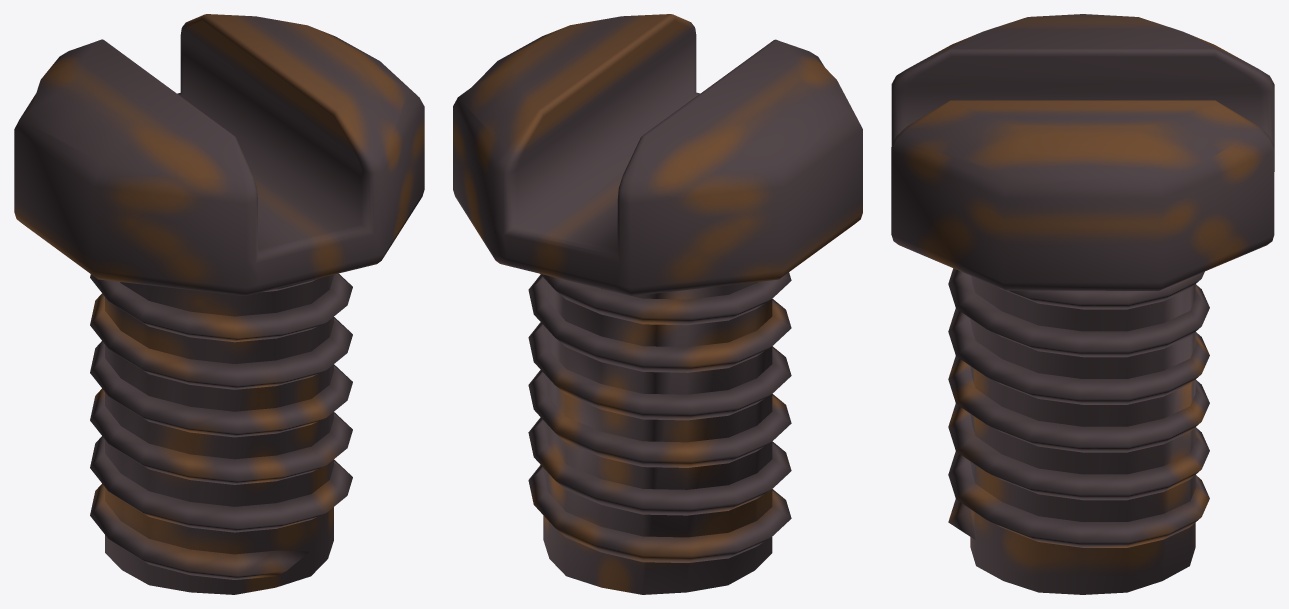
File: tornillo.fbx
3 renders of one model, left to right at view 1: azimuth 30°, elevation 25°; view 2: azimuth 150°, elevation 25°; view 3: azimuth 270°, elevation 25°, orthographic.
Parts seen in each view (by area): view 1: Rusty_Screw_Cylinder.004; view 2: Rusty_Screw_Cylinder.004; view 3: Rusty_Screw_Cylinder.004.
Boxes of the visible parts, x1,y1,x2,y2 form: Rusty_Screw_Cylinder.004: [14, 14, 424, 594]; Rusty_Screw_Cylinder.004: [453, 14, 862, 594]; Rusty_Screw_Cylinder.004: [891, 14, 1274, 594].
Size of the model in its own units: 1.85 by 2.52 by 1.85.
1 material, 1 textured.
